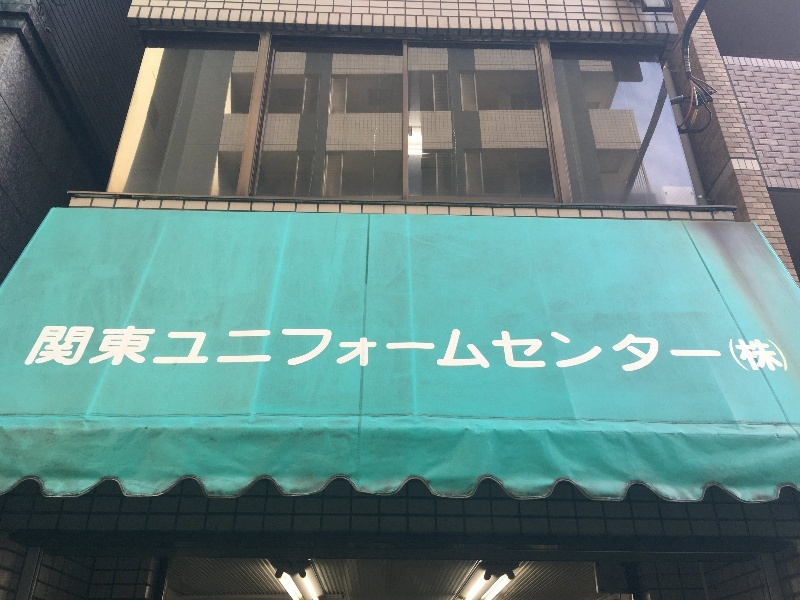text: (49, 326, 64, 375), (65, 326, 80, 375), (81, 326, 96, 375), (97, 326, 112, 375), (113, 326, 128, 375), (129, 326, 144, 375), (145, 326, 160, 375), (161, 326, 176, 375), (177, 326, 192, 375), (193, 326, 208, 375), (209, 326, 224, 375), (225, 326, 240, 375), (241, 326, 256, 375), (257, 326, 272, 375), (273, 326, 288, 375), (289, 326, 304, 375), (305, 326, 320, 375), (321, 326, 336, 375), (337, 326, 352, 375), (353, 326, 368, 375), (369, 326, 384, 375), (385, 326, 400, 375), (401, 326, 416, 375), (417, 326, 432, 375), (433, 326, 448, 375), (449, 326, 464, 375), (465, 326, 480, 375), (481, 326, 496, 375), (497, 326, 512, 375), (513, 326, 528, 375), (529, 326, 544, 375), (545, 326, 560, 375), (561, 326, 576, 375), (577, 326, 592, 375), (593, 326, 608, 375), (609, 326, 624, 375), (625, 326, 640, 375), (641, 326, 656, 375), (657, 326, 672, 375), (673, 326, 688, 375), (689, 326, 704, 375), (705, 326, 720, 375), (721, 326, 736, 375), (737, 326, 752, 375), (753, 326, 768, 375), (769, 326, 784, 375), (785, 326, 791, 375), (44, 326, 48, 375)
